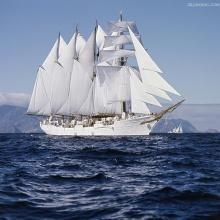fanchuan: (22, 19, 187, 136)
